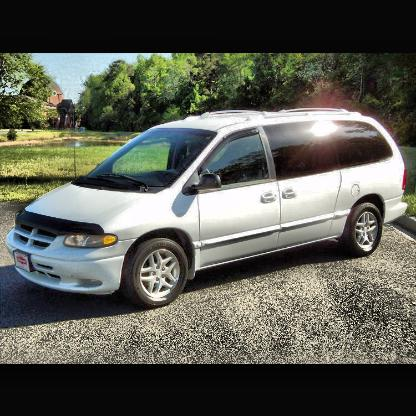Dodge Caravan Minivan 1997: (7, 107, 408, 309)
